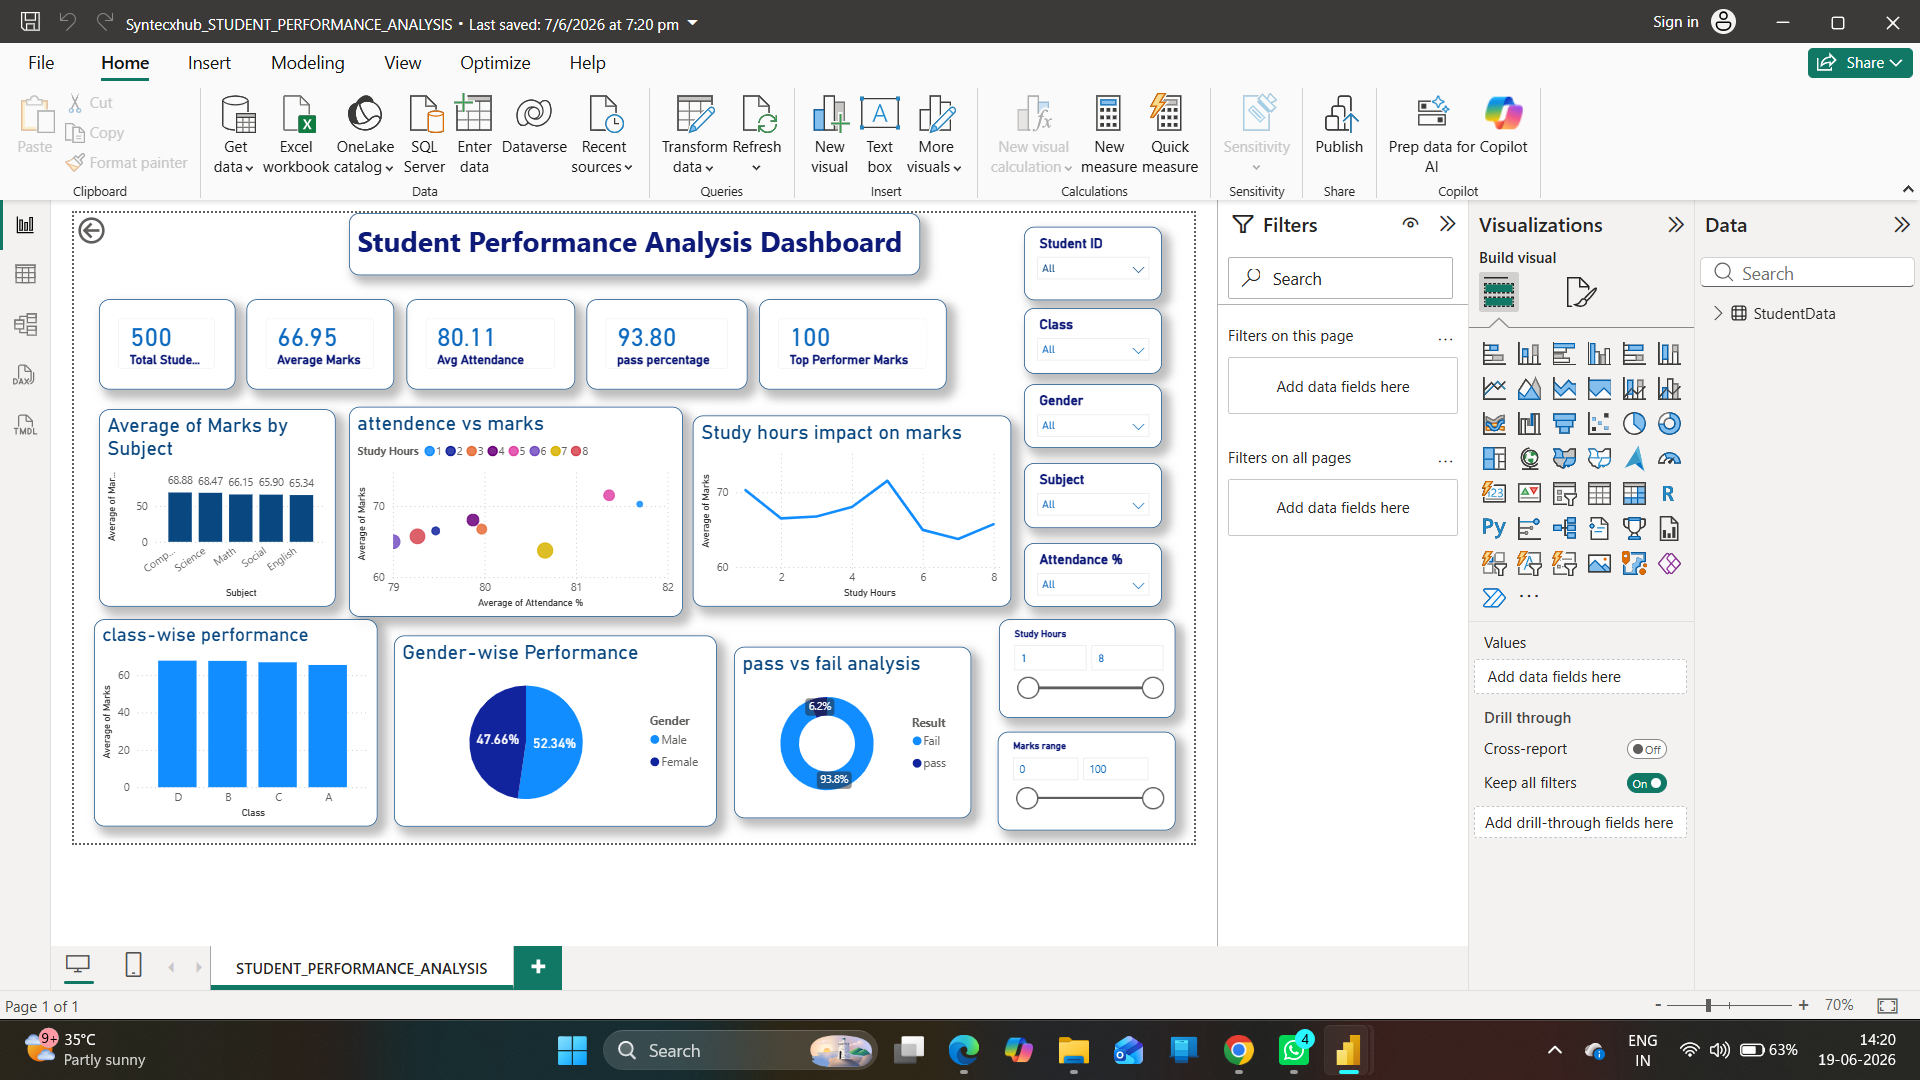

This screenshot's page, from the dashboard's own definition file:
{"tool":"powerbi","page":{"name":"STUDENT_PERFORMANCE_ANALYSIS","canvas":[1280,720],"ordinal":0},"visuals":[{"type":"textbox","box":[314.3,0,652.9,71.4],"z":0},{"type":"cardVisual","fields":{"Data":["CountNonNull(StudentData.Student ID)"]},"box":[28.6,98.6,155.7,102.9],"z":1000},{"type":"cardVisual","fields":{"Data":["Avg(StudentData.Attendance %)"]},"box":[380,98.6,192.9,102.9],"z":2000},{"type":"cardVisual","fields":{"Data":["Avg(StudentData.Marks)"]},"box":[197.1,98.6,168.6,102.9],"z":3000},{"type":"cardVisual","fields":{"Data":["StudentData.pass percentage"]},"box":[585.7,98.6,184.3,102.9],"z":4000},{"type":"cardVisual","fields":{"Data":["StudentData.Top Performer Marks"]},"box":[782.9,98.6,214.3,102.9],"z":5000},{"type":"slicer","fields":{"Values":["StudentData.Student ID"]},"box":[1085.4,15.1,157.8,83.7],"z":6000},{"type":"actionButton","box":[0,0,100,40],"z":7000},{"type":"slicer","fields":{"Values":["StudentData.Class"]},"box":[1085.4,108.4,157.8,75.5],"z":8000},{"type":"slicer","fields":{"Values":["StudentData.Gender"]},"box":[1085.4,196.2,157.8,72.7],"z":9000},{"type":"slicer","fields":{"Values":["StudentData.Subject"]},"box":[1085.4,285.4,157.8,74.1],"z":10000},{"type":"slicer","fields":{"Values":["StudentData.Attendance %"]},"box":[1085.4,377.4,157.8,72.7],"z":11000},{"type":"slicer","fields":{"Values":["StudentData.Study Hours"]},"box":[1056.6,463.8,201.7,112.5],"z":12000},{"type":"slicer","fields":{"Values":["StudentData.Marks"]},"box":[1055.2,592.8,203.1,112.5],"z":13000},{"type":"columnChart","fields":{"Category":["StudentData.Subject"],"Y":["Avg(StudentData.Marks)"]},"box":[28.6,224.3,270,225.7],"z":14000},{"type":"scatterChart","title":"attendence vs marks","fields":{"Y":["Avg(StudentData.Marks)"],"Series":["StudentData.Study Hours"],"Size":["Sum(StudentData.Study Hours)"],"X":["Avg(StudentData.Attendance %)"]},"box":[314.3,221.4,381.4,240],"z":15000},{"type":"donutChart","title":"pass vs fail analysis","fields":{"Y":["StudentData.pass percentage"],"Category":["StudentData.Result"]},"box":[754.3,495.7,271.4,195.7],"z":16000},{"type":"clusteredColumnChart","title":"class-wise performance","fields":{"Y":["Avg(StudentData.Marks)"],"Category":["StudentData.Class"]},"box":[22.9,464.3,324.3,237.1],"z":17000},{"type":"pieChart","title":"Gender-wise Performance","fields":{"Category":["StudentData.Gender"],"Y":["Sum(StudentData.Marks)"]},"box":[365.7,482.9,368.6,218.6],"z":18000},{"type":"lineChart","title":"Study hours impact on marks","fields":{"Category":["StudentData.Study Hours"],"Y":["Avg(StudentData.Marks)"]},"box":[707.1,231.4,364.3,218.6],"z":19000}]}

Visuals, with their boxes on the page's 1280x720 design canvas (x1, y1, x2, y2). These are canvas units, not pixel positions in the 1920x1080 screenshot, which may show the page scaled, cropped or inside an application window:
textbox: bbox=[314, 0, 967, 71]
cardVisual - CountNonNull(StudentData.Student ID): bbox=[29, 99, 184, 202]
cardVisual - Avg(StudentData.Attendance %): bbox=[380, 99, 573, 202]
cardVisual - Avg(StudentData.Marks): bbox=[197, 99, 366, 202]
cardVisual - StudentData.pass percentage: bbox=[586, 99, 770, 202]
cardVisual - StudentData.Top Performer Marks: bbox=[783, 99, 997, 202]
slicer - StudentData.Student ID: bbox=[1085, 15, 1243, 99]
actionButton: bbox=[0, 0, 100, 40]
slicer - StudentData.Class: bbox=[1085, 108, 1243, 184]
slicer - StudentData.Gender: bbox=[1085, 196, 1243, 269]
slicer - StudentData.Subject: bbox=[1085, 285, 1243, 360]
slicer - StudentData.Attendance %: bbox=[1085, 377, 1243, 450]
slicer - StudentData.Study Hours: bbox=[1057, 464, 1258, 576]
slicer - StudentData.Marks: bbox=[1055, 593, 1258, 705]
columnChart - StudentData.Subject x Avg(StudentData.Marks): bbox=[29, 224, 299, 450]
"attendence vs marks" scatterChart: bbox=[314, 221, 696, 461]
"pass vs fail analysis" donutChart: bbox=[754, 496, 1026, 691]
"class-wise performance" clusteredColumnChart: bbox=[23, 464, 347, 701]
"Gender-wise Performance" pieChart: bbox=[366, 483, 734, 702]
"Study hours impact on marks" lineChart: bbox=[707, 231, 1071, 450]
